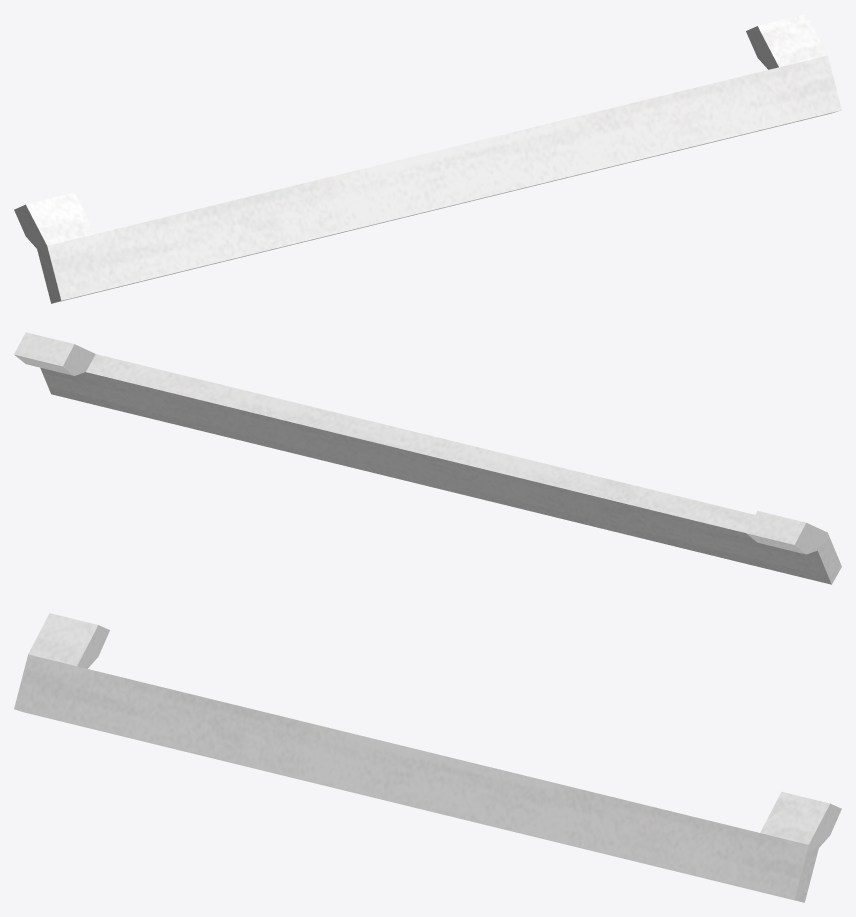
Rendered from warehouse_door_crashbar.glb.
The picture shows the model from 3 angles, top to bottom: view 1: azimuth 30°, elevation 25°; view 2: azimuth 150°, elevation 25°; view 3: azimuth 330°, elevation 25°; orthographic projection.
Visible parts, largest first — view 1: Cube.252; view 2: Cube.252; view 3: Cube.252.
Part boxes in pixels (x1,y1,x2,y2): Cube.252: [14, 14, 841, 303]; Cube.252: [14, 332, 841, 584]; Cube.252: [14, 613, 841, 902].
Size of the model in its own units: 3.84 by 0.3795 by 0.4037.
Materials: 1 (1 with a texture image).
